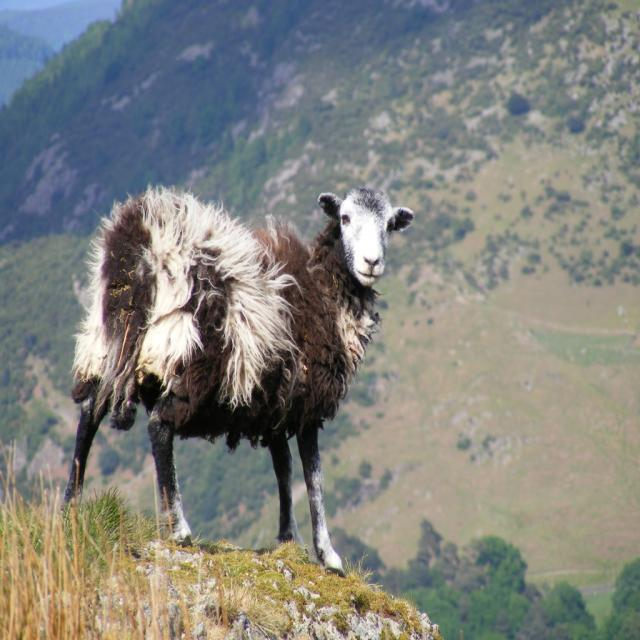Sheep: (56, 183, 415, 577)
